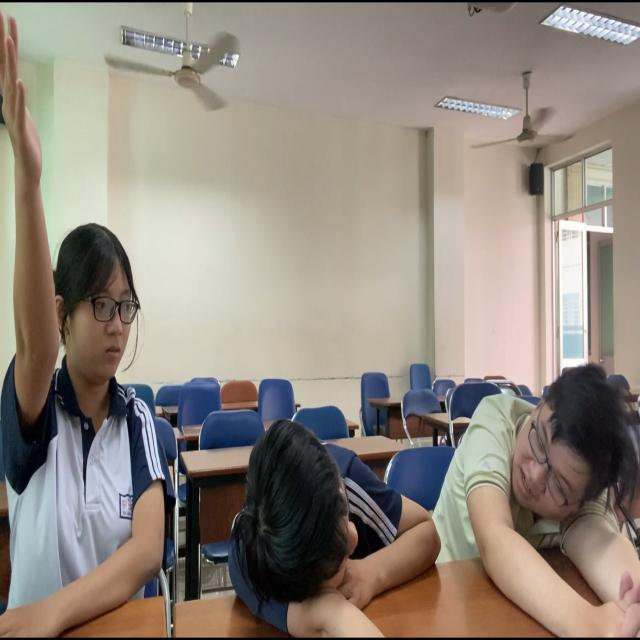raise_hand: (1, 1, 187, 640)
sleep: (228, 414, 439, 640)
